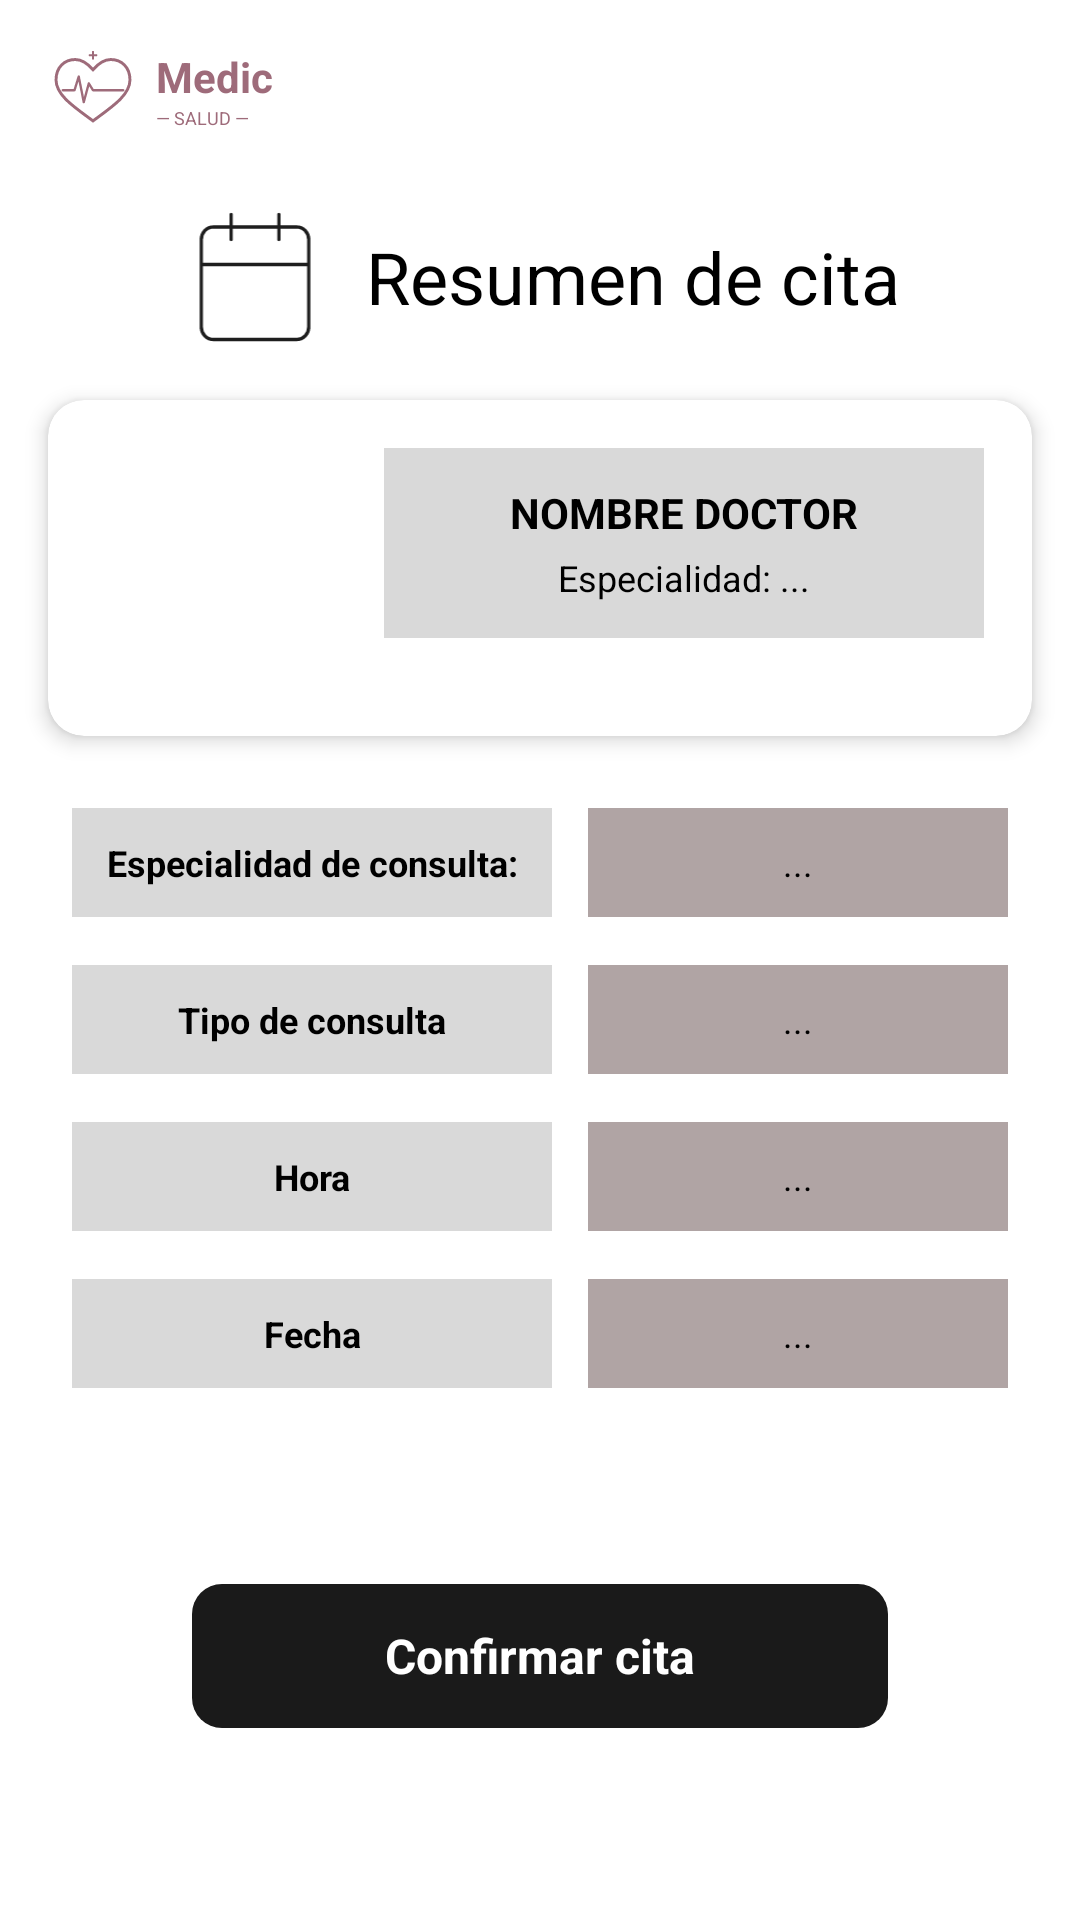

Icon bounding boxes for this 1080px×1920px phone screenshot, format detection(x1, y1, x2, y2):
calendario: detection(199, 213, 311, 342)
